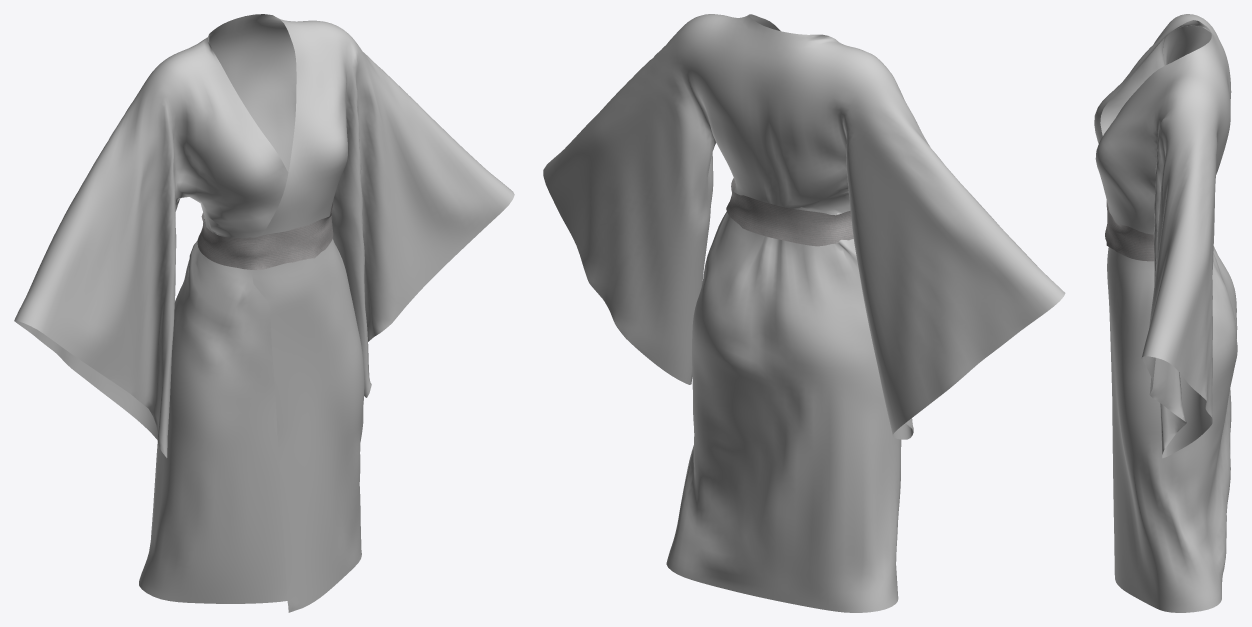
Rendered from nvgui_cloth_sketchfab.fbx.
3 views of the same model, side by side, from view 1: azimuth 30°, elevation 25°; view 2: azimuth 150°, elevation 25°; view 3: azimuth 270°, elevation 25° (orthographic). The views are drawn at different scales.
Visible parts, largest first — view 1: quadremesh1, yd_low; view 2: quadremesh1, yd_low; view 3: quadremesh1, yd_low.
Boxes of the visible parts, x1=… form: quadremesh1: x1=14, y1=14, x2=514, y2=612; yd_low: x1=197, y1=202, x2=333, y2=270; quadremesh1: x1=543, y1=14, x2=1065, y2=612; yd_low: x1=726, y1=178, x2=853, y2=246; quadremesh1: x1=1094, y1=14, x2=1237, y2=612; yd_low: x1=1105, y1=200, x2=1154, y2=261.
Size of the model in its own units: 109 by 118 by 28.27.
